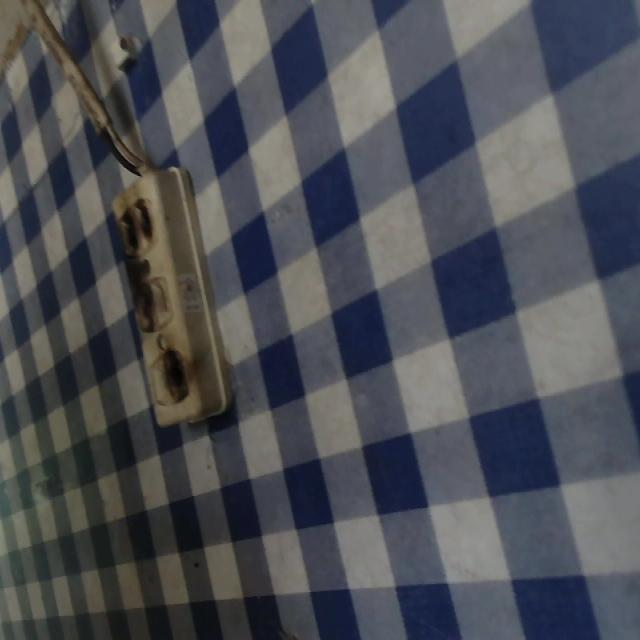-: (116, 195, 153, 252), (158, 344, 192, 404), (128, 276, 158, 335)
